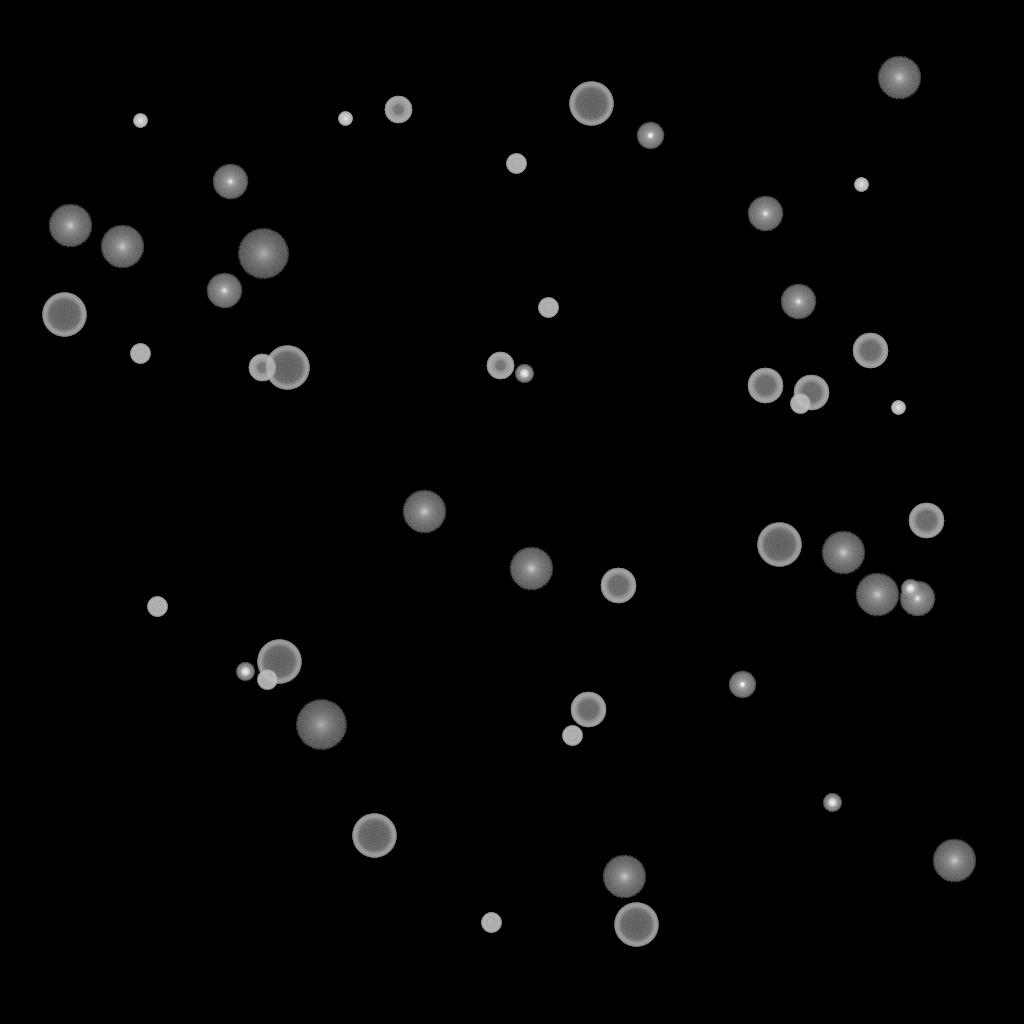depth:-10: (636, 122, 664, 150), (728, 671, 756, 699)
depth:-20: (515, 365, 533, 383), (236, 663, 254, 681), (823, 794, 841, 812), (901, 580, 919, 598)
depth:-30: (854, 178, 868, 192), (338, 112, 352, 126), (133, 114, 147, 128), (891, 401, 905, 415)
depth:-40: (538, 298, 558, 318), (130, 344, 150, 364), (257, 670, 277, 690), (147, 597, 167, 617), (481, 913, 501, 933), (562, 726, 582, 746), (506, 154, 526, 174), (790, 394, 810, 414)
depth:-50: (248, 354, 276, 382), (384, 96, 412, 124), (486, 352, 514, 380)
depth:-60: (908, 503, 944, 539), (570, 692, 606, 728), (600, 568, 636, 604), (793, 375, 829, 411), (852, 333, 888, 369), (747, 368, 783, 404)
depth:-70: (352, 814, 396, 858), (42, 293, 86, 337), (265, 346, 309, 390), (757, 523, 801, 567), (614, 903, 658, 947), (569, 82, 613, 126), (257, 640, 301, 684)
depth:0: (747, 196, 783, 232), (780, 284, 816, 320), (899, 581, 935, 617), (206, 273, 242, 309), (212, 164, 248, 200)
depth:10: (100, 225, 144, 269), (402, 490, 446, 534), (877, 56, 921, 100), (48, 204, 92, 248), (932, 839, 976, 883), (855, 573, 899, 617), (509, 547, 553, 591), (602, 855, 646, 899), (821, 531, 865, 575)
depth:20: (295, 700, 347, 750), (237, 229, 289, 279)
